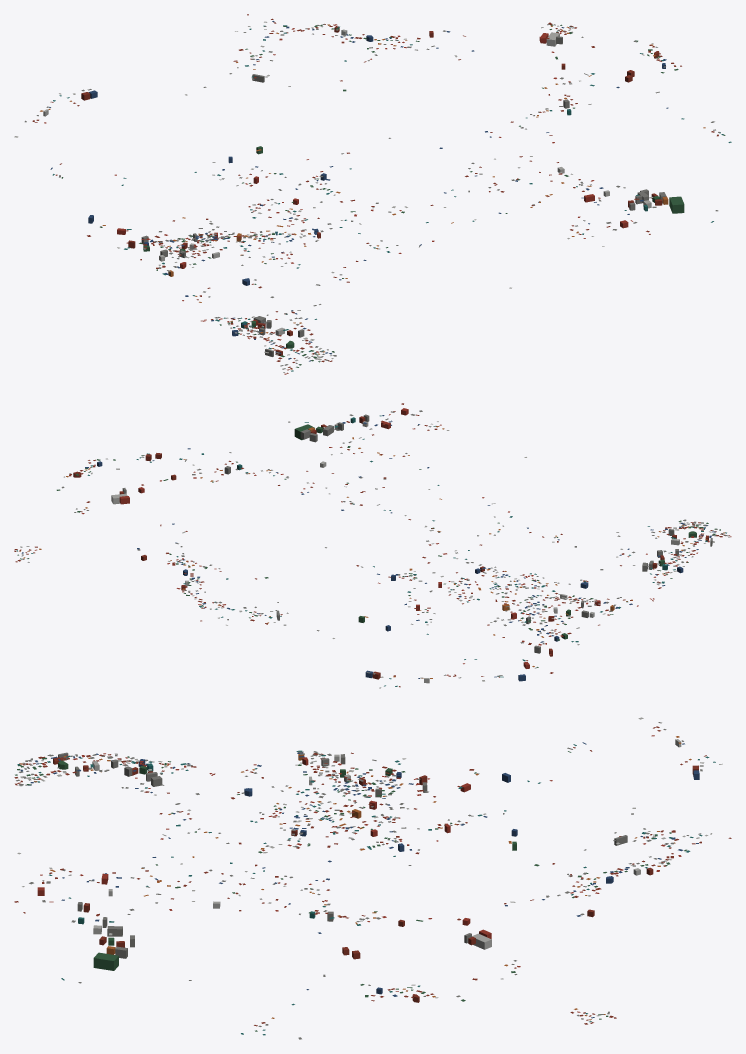
The model's file is far-14-13681-7433.9311afa1.glb.
3 views of the same model, one above another, from view 1: azimuth 30°, elevation 25°; view 2: azimuth 150°, elevation 25°; view 3: azimuth 270°, elevation 25° (orthographic). The views are drawn at different scales.
Size of the model in its own units: 2363 by 385 by 2309.
